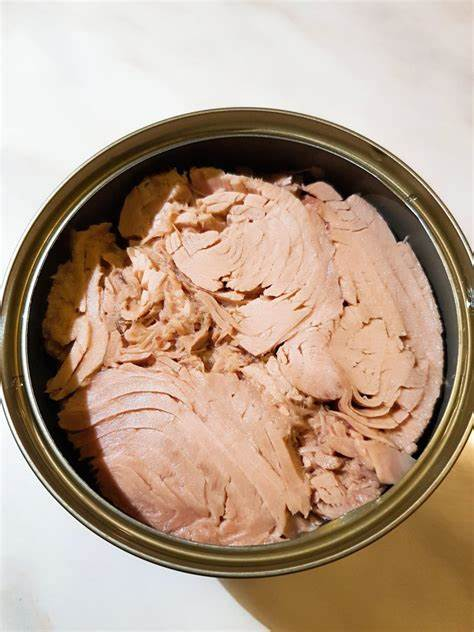Tuna: (4, 152, 466, 563)
